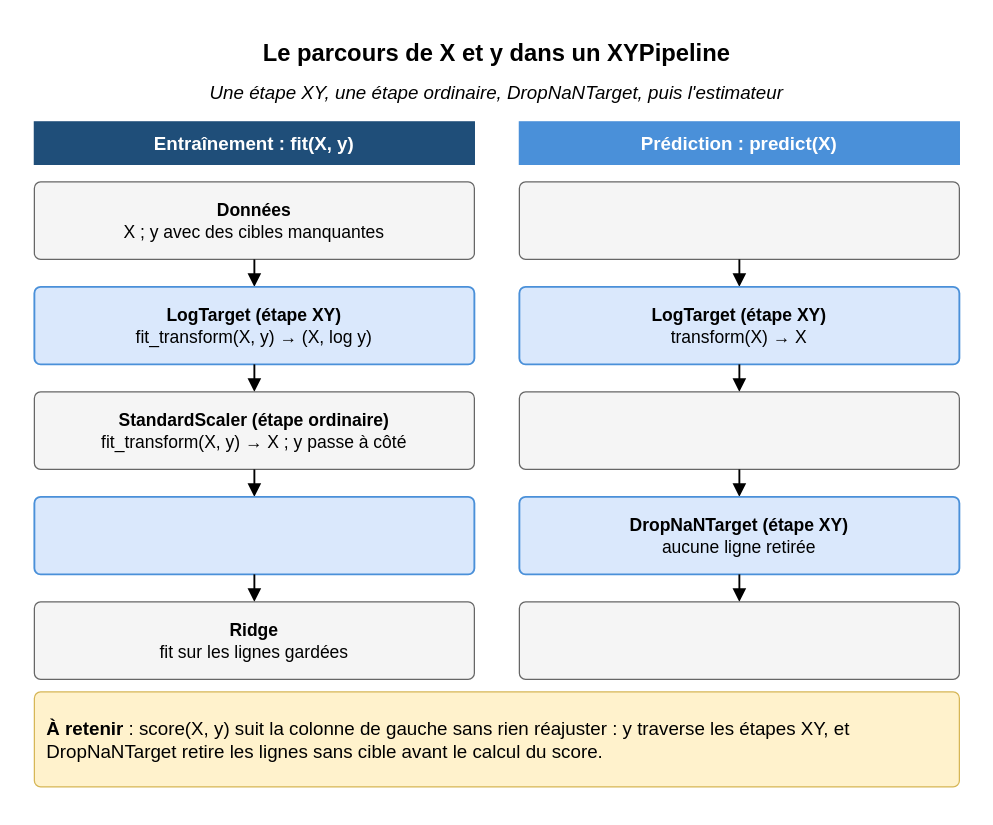
This 993x825 diagram has some shape labels left out. The shapes that lost their labels are listed below. From the top down, each one's centre as x and y in pixels, then its label:
At point (738, 220): "Données X seul".
At point (738, 430): "StandardScaler (étape ordinaire) transform(X) → X".
At point (254, 535): "DropNaNTarget (étape XY) lignes sans cible retirées de X et y".
At point (738, 640): "Ridge une prédiction par ligne de X".
